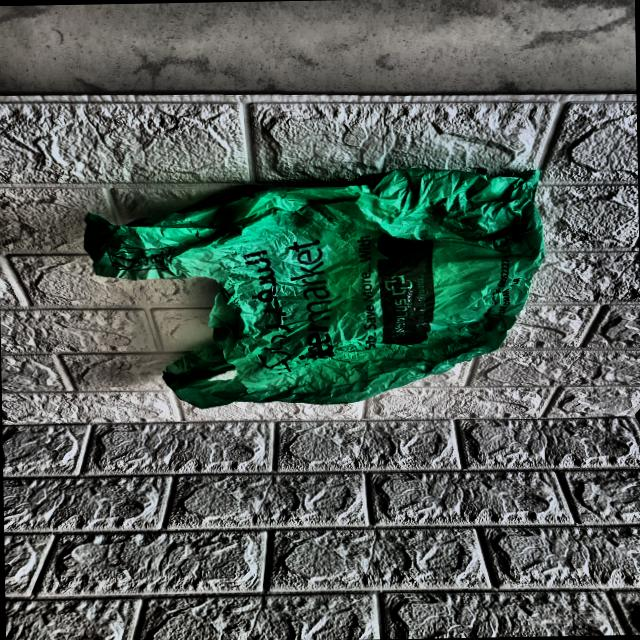plastic bag: (80, 164, 550, 414)
